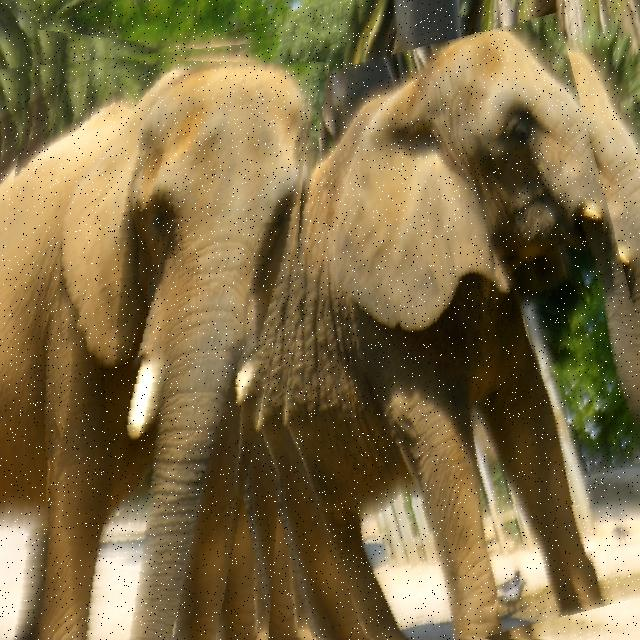elephant: (211, 32, 640, 640), (0, 37, 313, 640)
